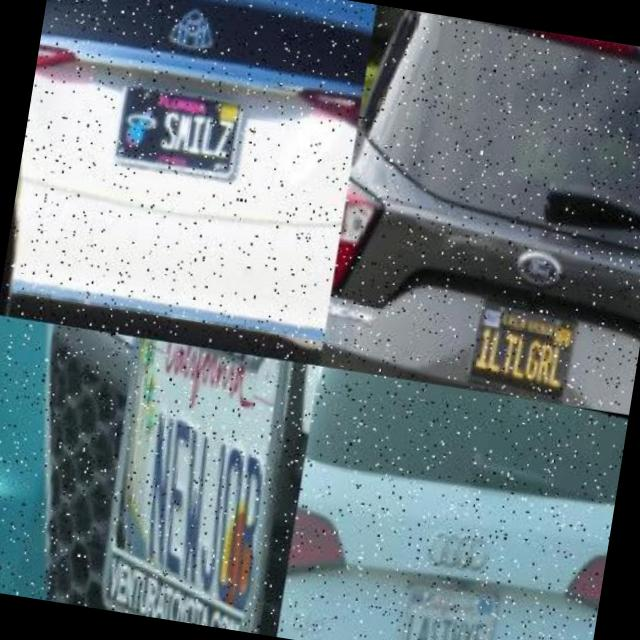LicensePlate: (63, 332, 319, 637), (472, 284, 600, 402), (117, 79, 251, 175), (392, 562, 510, 640)
